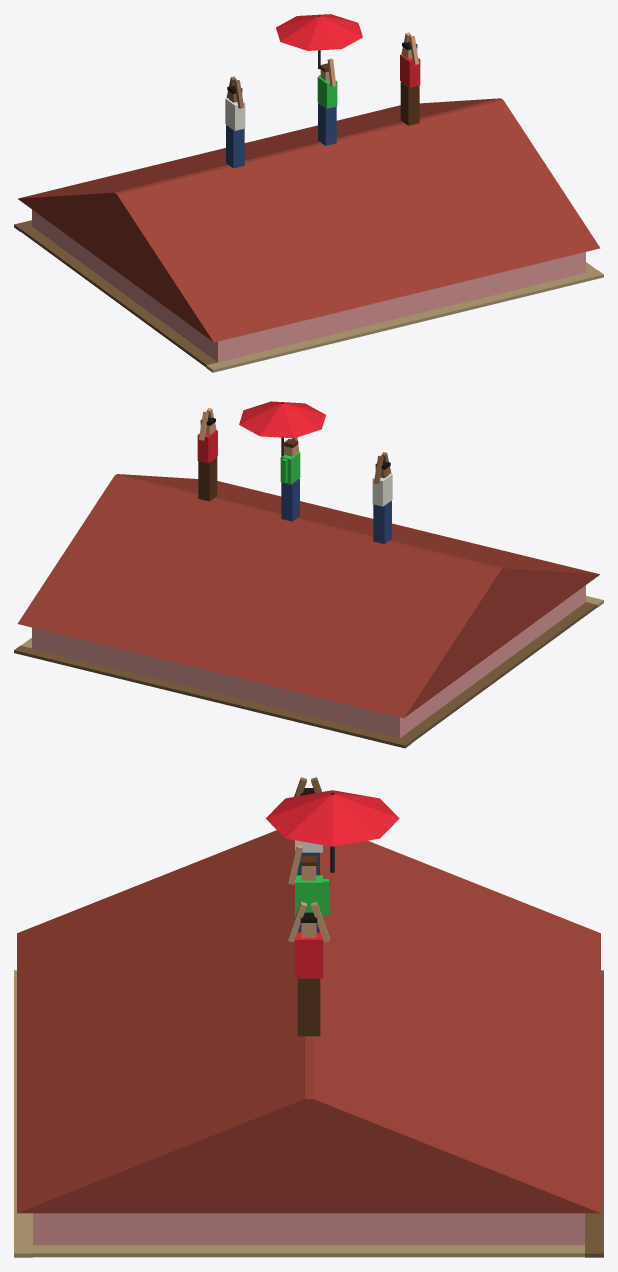
File: techo_refugiados_1.obj
The picture shows the model from 3 angles, top to bottom: view 1: azimuth 30°, elevation 25°; view 2: azimuth 150°, elevation 25°; view 3: azimuth 270°, elevation 25°; orthographic projection. The views are drawn at different scales.
Parts seen in each view (by area): view 1: techo_refugiados_1; view 2: techo_refugiados_1; view 3: techo_refugiados_1.
Boxes of the visible parts, bbox=[...] form: techo_refugiados_1: bbox=[14, 14, 603, 372]; techo_refugiados_1: bbox=[14, 401, 603, 748]; techo_refugiados_1: bbox=[14, 777, 603, 1257].
Size of the model in its own units: 8.5 by 4.7 by 7.48.
